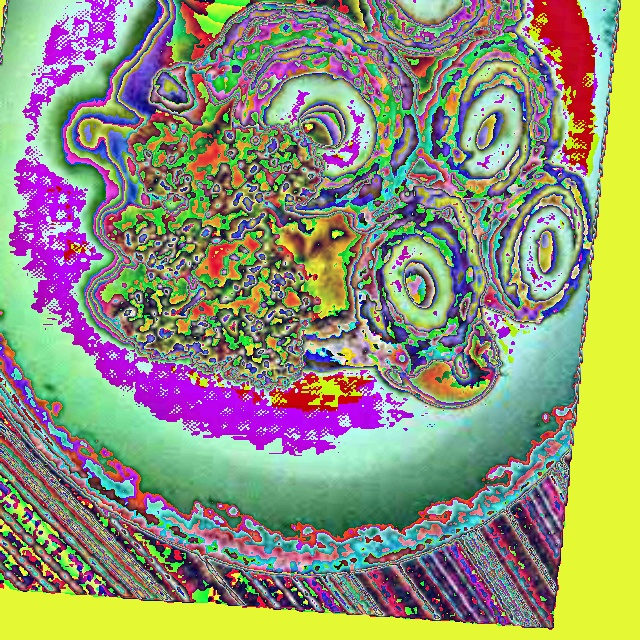background: (92, 0, 597, 411)
